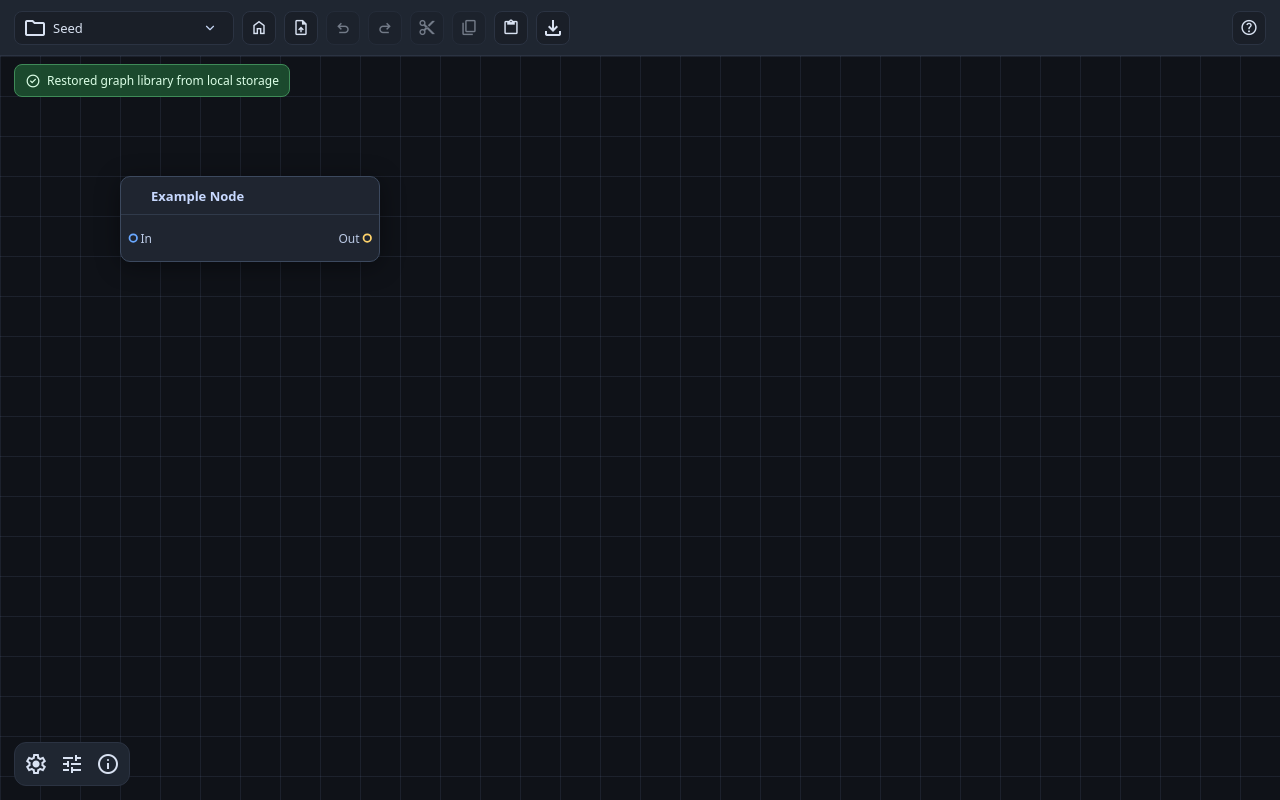
Test: Node picker › opens on right-click while in trackpad mode
Step 1. Click the button named "Settings" → (36, 764), box [21,749,51,779]
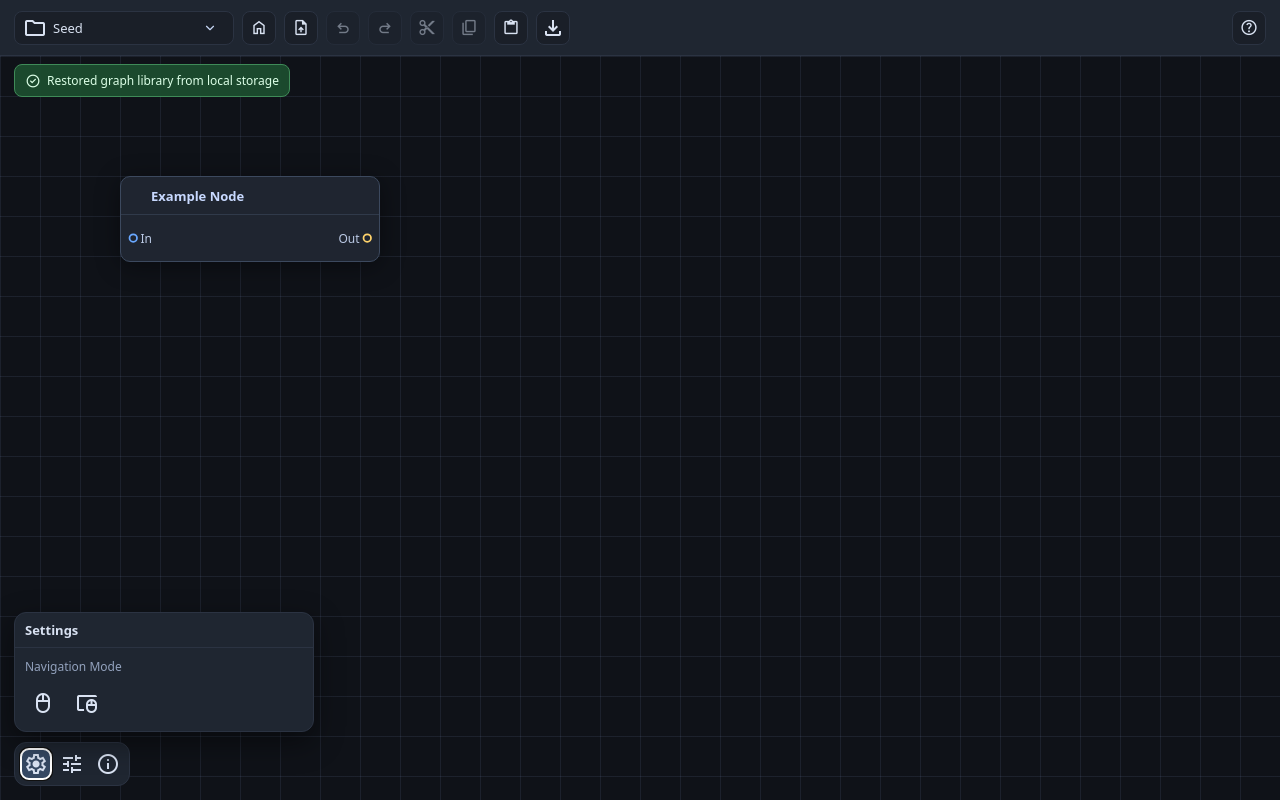
Step 2. Click the button named "Trackpad mode" → (87, 703), box [69,685,105,721]
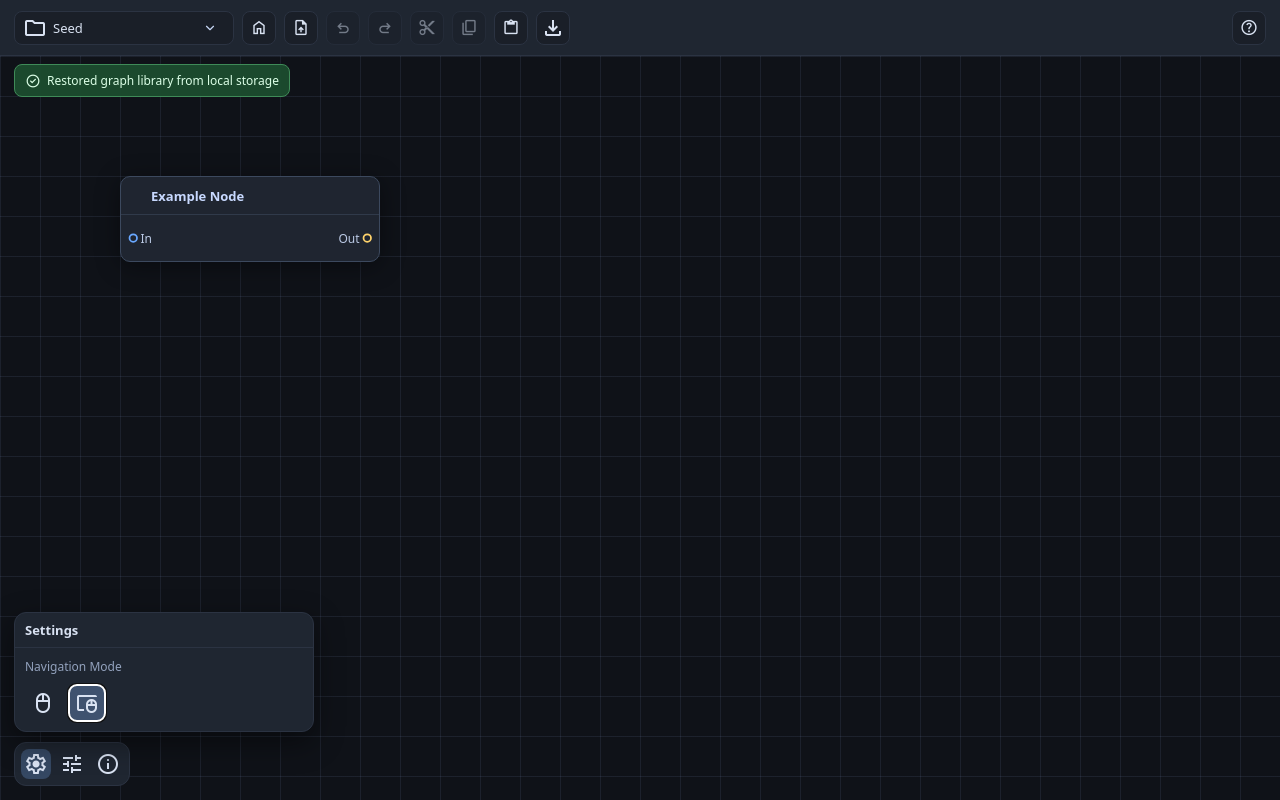
Step 3. Press the mouse on the element with class "canvas-root" → (640, 428), box [0,56,1279,799]
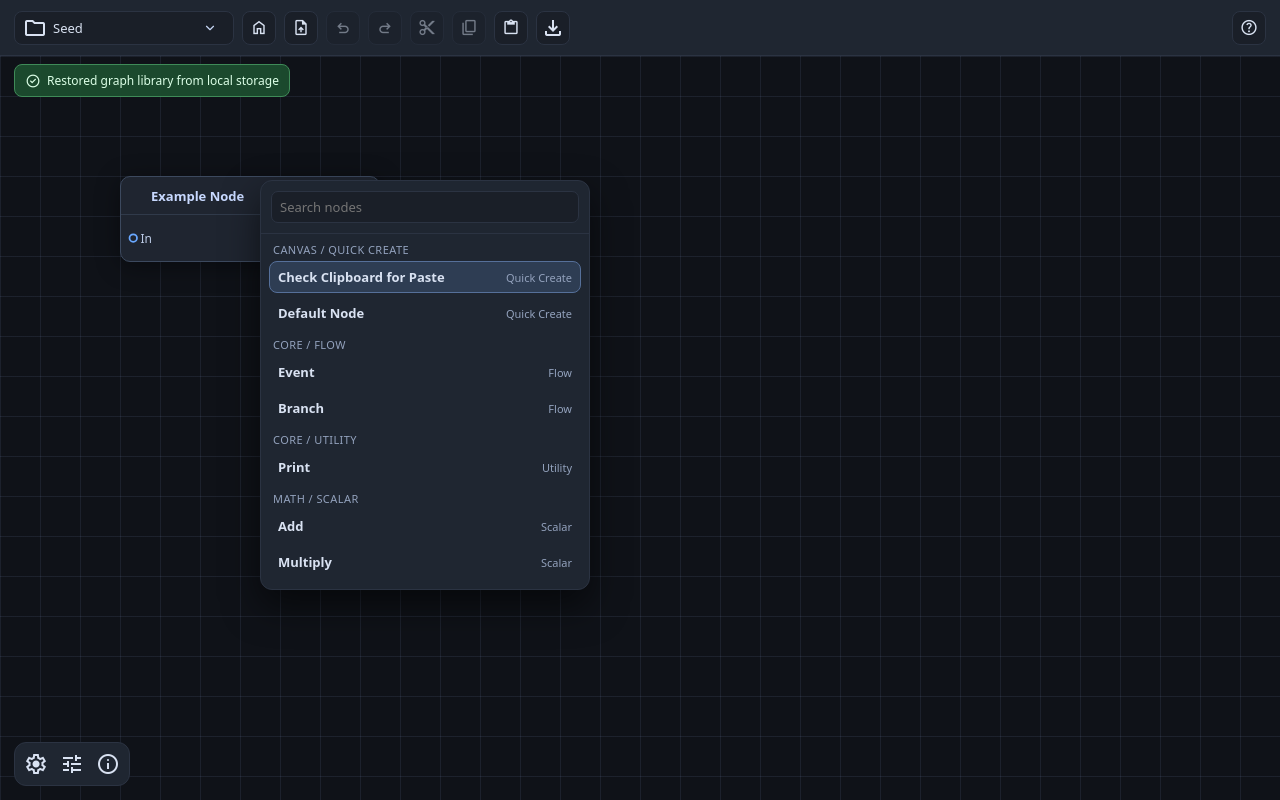
expect the dialog with class "node-picker" is shown: met, box [260,180,590,590]
